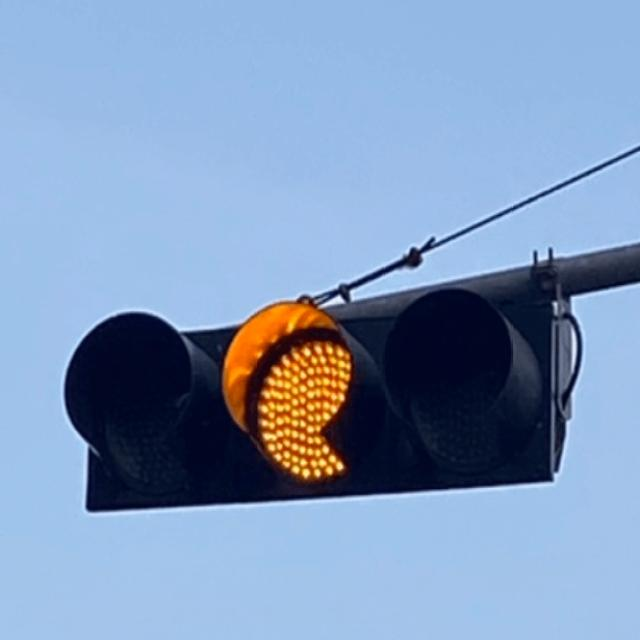Yellow Light: (212, 299, 388, 499)
